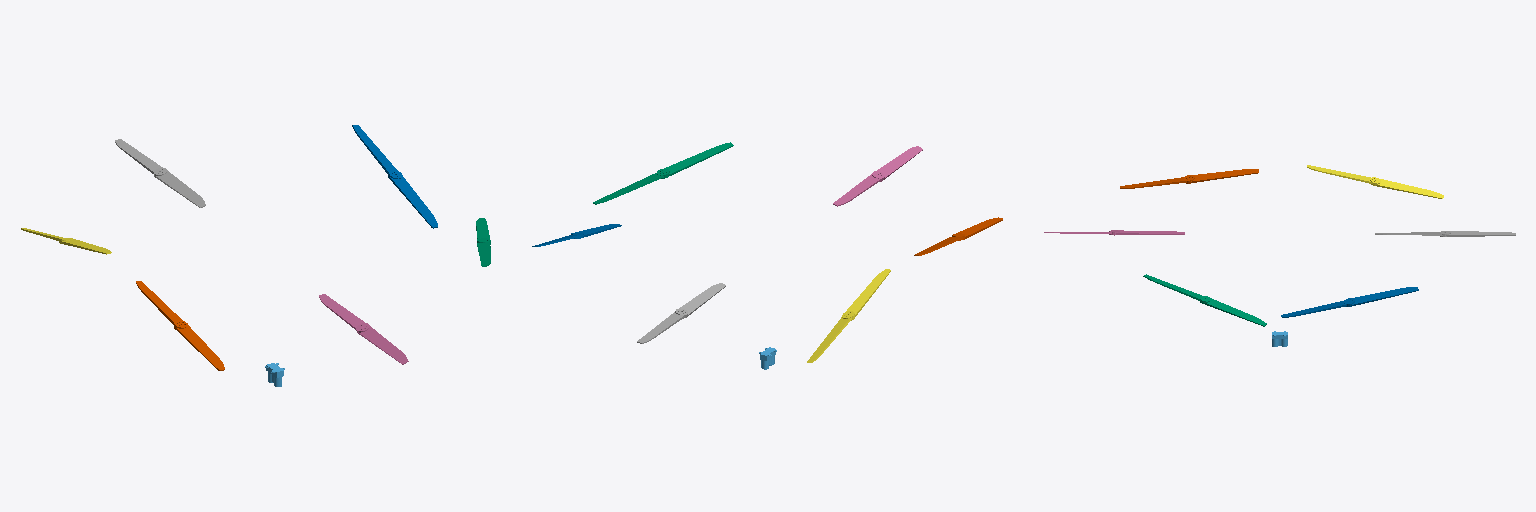
--- Facts derived from the render (not from the file) ---
The picture shows the robot from 3 angles, left to right: view 1: azimuth 30°, elevation 25°; view 2: azimuth 150°, elevation 25°; view 3: azimuth 270°, elevation 25°; orthographic projection.
Model airfly_hexa with 10 links and 9 joints (2 revolute, 6 continuous, 1 fixed), rooted at base_link, posed every joint at zero.
Visible links, largest first — view 1: rotor_2, rotor_0, rotor_3, rotor_1, rotor_4; view 2: rotor_4, rotor_5, rotor_0, rotor_1, rotor_3; view 3: rotor_2, rotor_5, rotor_3, rotor_4, rotor_1.
Boxes of the visible links, box(x1,y1,x2,y2) form: rotor_2: box(352, 125, 437, 228); rotor_0: box(319, 294, 408, 364); rotor_3: box(136, 281, 224, 370); rotor_1: box(115, 139, 205, 207); rotor_4: box(476, 218, 490, 266); rotor_4: box(593, 142, 733, 204); rotor_5: box(807, 269, 890, 362); rotor_0: box(833, 146, 922, 206); rotor_1: box(637, 283, 725, 343); rotor_3: box(914, 217, 1002, 255); rotor_2: box(1281, 287, 1418, 317); rotor_5: box(1307, 165, 1443, 198); rotor_3: box(1120, 169, 1258, 188); rotor_4: box(1143, 274, 1266, 326); rotor_1: box(1375, 231, 1515, 236).
Size in the robot's own frame: 1.89 by 2.71 by 0.7793 metres.
7 mesh visuals loaded from 3 distinct referenced files (2 binary STL); not drawn: 1 (reference not matched to a file when rendering).

URDF robot description (airfly_hexa):
<?xml version="1.0" ?>
<!-- =================================================================================== -->
<!-- |    This document was autogenerated by xacro from [local-path]/Firmware/Tools/sitl_gazebo/models/airfly_hexa/urdf/hexa_base.xacro | -->
<!-- |    EDITING THIS FILE BY HAND IS NOT RECOMMENDED                                 | -->
<!-- =================================================================================== -->
<robot name="airfly_hexa" xmlns:xacro="http://ros.org/wiki/xacro">
  <!-- Properties that can be assigned at build time as arguments.
  Is there a reason not to make all properties arguments?
  -->
  <!-- The following causes segfault with multiple vehicles if defaults to true!!! -->
  <!-- macros for gazebo plugins, sensors -->
  <!-- Macro to add logging to a bag file. -->
  <!-- Macro to add a camera. -->
  <!-- Macro to add a LiDAR. -->
  <!-- Macro to add the gps_plugin. -->
  <!-- Macro to add the magnetometer_plugin. -->
  <!-- Macro to add Ground Truth plugin -->
  <!-- Macro to add the barometer_plugin. -->
  <!-- Macro to add the mavlink interface. -->
  <!-- Macro to add an IMU. -->
  <!-- Macro to add the wind plugin. -->
  <!-- Instantiate Hexacopter "mechanics" -->
  <!-- Properties -->
  <!-- [kg] -->
  <!-- [m] -->
  <!-- [m] -->
  <!-- [m] -->
  <!-- [m] -->
  <!-- [kg] -->
  <!-- [m] -->
  <!-- [m] -->
  <!-- [kg.m/s^2] -->
  <!-- [m] -->
  <!-- [s] -->
  <!-- [s] -->
  <!-- [rad/s] -->
  <!-- Property Blocks for the Base link -->
  <!-- inertia of rotor 0 -->
  <!-- inertia of rotor 1 -->
  <!-- inertia of rotor 2 -->
  <!-- inertia of rotor 3 -->
  <!-- inertia of rotor 4 -->
  <!-- inertia of rotor 5 -->
  <!-- Included URDF Files -->
  <!-- Main multirotor link -->
  <!-- Rotor joint and link -->
  <!-- Instantiate multirotor_base_macro once -->
  <link name="base_link"/>
  <joint name="base_joint" type="fixed">
    <origin rpy="0 0 0" xyz="0 0 0"/>
    <parent link="base_link"/>
    <child link="base_link_inertia"/>
  </joint>
  <link name="base_link_inertia">
    <inertial>
      <mass value="95"/>
      <!-- [kg] -->
      <origin xyz="0.00248395293577031 0.000136495293976524 -0.174981555965809"/>
      <inertia ixx="2.93015030357653" ixy="2.67282084525685e-05" ixz="0.0449250956057515" iyy="2.98862504201484" iyz="6.44540809146554e-05" izz="4.78028912562783"/>
    </inertial>
    <visual>
      <origin rpy="0 0 0" xyz="0 0 0"/>
      <geometry>
        <mesh filename="package://airfly_hexa/meshes/base_link.STL" scale="1 1 1"/>
      </geometry>
    </visual>
    <collision>
      <origin rpy="0 0 0" xyz="0 0 -0.175"/>
      <geometry>
        <box size="1.944514 2.231896 0.886246"/>
        <!-- [m] [m] [m] -->
      </geometry>
    </collision>
  </link>
  <!-- attach multirotor_base_plugin to the base_link -->
  <gazebo>
    <plugin filename="libgazebo_multirotor_base_plugin.so" name="rosbag">
      <robotNamespace></robotNamespace>
      <linkName>base_link</linkName>
      <rotorVelocitySlowdownSim>3</rotorVelocitySlowdownSim>
    </plugin>
  </gazebo>
  <gazebo reference="base_link">
    <material>Gazebo/DarkGrey</material>
    <collision name="base_link_inertia_collision">
      <surface>
        <friction>
          <ode>
            <mu>100000.0</mu>
            <mu2>100000.0</mu2>
            <fdir1>1 0 0</fdir1>
            <slip1>0.0</slip1>
            <slip2>0.0</slip2>
          </ode>
        </friction>
        <contact>
          <ode>
            <min_depth>0.01</min_depth>
            <max_vel>1.0</max_vel>
          </ode>
        </contact>
      </surface>
    </collision>
  </gazebo>
  <!-- Instantiate rotor 4 rpy="0.167 -0.005845 2.6538" -->
  <joint name="rotor_4_joint" type="continuous">
    <origin rpy="0.167 -0.005845 2.6538" xyz="0.85004 -0.42999 0.25919"/>
    <axis xyz="0.082997 0.144137 0.986071"/>
    <parent link="base_link"/>
    <child link="rotor_4"/>
  </joint>
  <link name="rotor_4">
    <inertial>
      <mass value="0.4177"/>
      <!-- [kg] -->
      <inertia ixx="0.0053435" ixy="-3.2434e-05" ixz="-1.7607e-07" iyy="0.00011193" iyz="1.3339e-07" izz="0.005443"/>
    </inertial>
    <visual>
      <geometry>
        <mesh filename="package://airfly_hexa/meshes/rotor_1.STL" scale="1 1 1"/>
      </geometry>
    </visual>
    <collision>
      <geometry>
        <cylinder length="0.02" radius="0.406"/>
        <!-- [m] -->
      </geometry>
    </collision>
  </link>
  <gazebo>
    <plugin filename="libgazebo_motor_model.so" name="front_right_motor_model">
      <robotNamespace></robotNamespace>
      <jointName>rotor_4_joint</jointName>
      <linkName>rotor_4</linkName>
      <turningDirection>ccw</turningDirection>
      <timeConstantUp>0.0125</timeConstantUp>
      <timeConstantDown>0.025</timeConstantDown>
      <maxRotVelocity>470</maxRotVelocity>
      <motorConstant>0.0012010474</motorConstant>
      <momentConstant>0.06</momentConstant>
      <commandSubTopic>/gazebo/command/motor_speed</commandSubTopic>
      <motorNumber>4</motorNumber>
      <rotorDragCoefficient>0.002557889</rotorDragCoefficient>
      <rollingMomentCoefficient>3.172e-06</rollingMomentCoefficient>
      <motorSpeedPubTopic>/motor_speed/4</motorSpeedPubTopic>
      <rotorVelocitySlowdownSim>3</rotorVelocitySlowdownSim>
      <!--
        <gazebo_joint_control_pid>
          <p>0.1</p>
          <i>0</i>
          <d>0</d>
          <iMax>0</iMax>
          <iMin>0</iMin>
          <cmdMax>3</cmdMax>
          <cmdMin>-3</cmdMin>
        </gazebo_joint_control_pid>
      -->
    </plugin>
  </gazebo>
  <gazebo reference="rotor_4">
    <material>Gazebo/OrangeTransparent</material>
  </gazebo>
  <!-- Instantiate rotor 5 rpy="-0.24255 0.13775 -0.01577" -->
  <joint name="rotor_5_joint" type="continuous">
    <origin rpy="-0.24255 0.13775 -0.01577" xyz="-0.78182 0.54846 0.25157"/>
    <axis xyz="-0.137066 -0.238047 0.961533"/>
    <parent link="base_link"/>
    <child link="rotor_5"/>
  </joint>
  <link name="rotor_5">
    <inertial>
      <mass value="0.4177"/>
      <!-- [kg] -->
      <inertia ixx="0.0053435" ixy="-3.2435e-05" ixz="-1.7558e-07" iyy="0.00011193" iyz="1.3236e-07" izz="0.005443"/>
    </inertial>
    <visual>
      <geometry>
        <mesh filename="package://airfly_hexa/meshes/rotor_1.STL" scale="1 1 1"/>
      </geometry>
    </visual>
    <collision>
      <geometry>
        <cylinder length="0.02" radius="0.406"/>
        <!-- [m] -->
      </geometry>
    </collision>
  </link>
  <gazebo>
    <plugin filename="libgazebo_motor_model.so" name="back_left_motor_model">
      <robotNamespace></robotNamespace>
      <jointName>rotor_5_joint</jointName>
      <linkName>rotor_5</linkName>
      <turningDirection>cw</turningDirection>
      <timeConstantUp>0.0125</timeConstantUp>
      <timeConstantDown>0.025</timeConstantDown>
      <maxRotVelocity>470</maxRotVelocity>
      <motorConstant>0.0012010474</motorConstant>
      <momentConstant>0.06</momentConstant>
      <commandSubTopic>/gazebo/command/motor_speed</commandSubTopic>
      <motorNumber>5</motorNumber>
      <rotorDragCoefficient>0.002557889</rotorDragCoefficient>
      <rollingMomentCoefficient>3.172e-06</rollingMomentCoefficient>
      <motorSpeedPubTopic>/motor_speed/5</motorSpeedPubTopic>
      <rotorVelocitySlowdownSim>3</rotorVelocitySlowdownSim>
      <!--
        <gazebo_joint_control_pid>
          <p>0.1</p>
          <i>0</i>
          <d>0</d>
          <iMax>0</iMax>
          <iMin>0</iMin>
          <cmdMax>3</cmdMax>
          <cmdMin>-3</cmdMin>
        </gazebo_joint_control_pid>
      -->
    </plugin>
  </gazebo>
  <gazebo reference="rotor_5">
    <material>Gazebo/BlueTransparent</material>
  </gazebo>
  <!-- Instantiate rotor 2 rpy="0.24252 0.13781 0.017864" -->
  <joint name="rotor_2_joint" type="continuous">
    <origin rpy="0.24252 0.13781 0.017864" xyz="0.8659 0.40285 0.25157"/>
    <axis xyz="-0.137623 0.237729 0.961533"/>
    <parent link="base_link"/>
    <child link="rotor_2"/>
  </joint>
  <link name="rotor_2">
    <inertial>
      <mass value="0.4177"/>
      <!-- [kg] -->
      <inertia ixx="0.0053435" ixy="-3.2435e-05" ixz="-1.7561e-07" iyy="0.00011193" iyz="1.3276e-07" izz="0.005443"/>
    </inertial>
    <visual>
      <geometry>
        <mesh filename="package://airfly_hexa/meshes/rotor_1.STL" scale="1 1 1"/>
      </geometry>
    </visual>
    <collision>
      <geometry>
        <cylinder length="0.02" radius="0.406"/>
        <!-- [m] -->
      </geometry>
    </collision>
  </link>
  <gazebo>
    <plugin filename="libgazebo_motor_model.so" name="front_left_motor_model">
      <robotNamespace></robotNamespace>
      <jointName>rotor_2_joint</jointName>
      <linkName>rotor_2</linkName>
      <turningDirection>cw</turningDirection>
      <timeConstantUp>0.0125</timeConstantUp>
      <timeConstantDown>0.025</timeConstantDown>
      <maxRotVelocity>470</maxRotVelocity>
      <motorConstant>0.0012010474</motorConstant>
      <momentConstant>0.06</momentConstant>
      <commandSubTopic>/gazebo/command/motor_speed</commandSubTopic>
      <motorNumber>2</motorNumber>
      <rotorDragCoefficient>0.002557889</rotorDragCoefficient>
      <rollingMomentCoefficient>3.172e-06</rollingMomentCoefficient>
      <motorSpeedPubTopic>/motor_speed/2</motorSpeedPubTopic>
      <rotorVelocitySlowdownSim>3</rotorVelocitySlowdownSim>
      <!--
        <gazebo_joint_control_pid>
          <p>0.1</p>
          <i>0</i>
          <d>0</d>
          <iMax>0</iMax>
          <iMin>0</iMin>
          <cmdMax>3</cmdMax>
          <cmdMin>-3</cmdMin>
        </gazebo_joint_control_pid>
      -->
    </plugin>
  </gazebo>
  <gazebo reference="rotor_2">
    <material>Gazebo/BlueTransparent</material>
  </gazebo>
  <!-- Instantiate rotor 3 rpy="0.14504 0.083268 0.0071482" -->
  <joint name="rotor_3_joint" type="continuous">
    <origin rpy="0.14504 0.083268 0.0071482" xyz="-0.7974 -0.52116 0.25919"/>
    <axis xyz="-0.08333 0.14394 0.986072"/>
    <parent link="base_link"/>
    <child link="rotor_3"/>
  </joint>
  <link name="rotor_3">
    <inertial>
      <mass value="0.4177"/>
      <!-- [kg] -->
      <inertia ixx="0.0053435" ixy="-3.2434e-05" ixz="-1.756e-07" iyy="0.00011193" iyz="1.3269e-07" izz="0.005443"/>
    </inertial>
    <visual>
      <geometry>
        <mesh filename="package://airfly_hexa/meshes/rotor_1.STL" scale="1 1 1"/>
      </geometry>
    </visual>
    <collision>
      <geometry>
        <cylinder length="0.02" radius="0.406"/>
        <!-- [m] -->
      </geometry>
    </collision>
  </link>
  <gazebo>
    <plugin filename="libgazebo_motor_model.so" name="back_right_motor_model">
      <robotNamespace></robotNamespace>
      <jointName>rotor_3_joint</jointName>
      <linkName>rotor_3</linkName>
      <turningDirection>ccw</turningDirection>
      <timeConstantUp>0.0125</timeConstantUp>
      <timeConstantDown>0.025</timeConstantDown>
      <maxRotVelocity>470</maxRotVelocity>
      <motorConstant>0.0012010474</motorConstant>
      <momentConstant>0.06</momentConstant>
      <commandSubTopic>/gazebo/command/motor_speed</commandSubTopic>
      <motorNumber>3</motorNumber>
      <rotorDragCoefficient>0.002557889</rotorDragCoefficient>
      <rollingMomentCoefficient>3.172e-06</rollingMomentCoefficient>
      <motorSpeedPubTopic>/motor_speed/3</motorSpeedPubTopic>
      <rotorVelocitySlowdownSim>3</rotorVelocitySlowdownSim>
      <!--
        <gazebo_joint_control_pid>
          <p>0.1</p>
          <i>0</i>
          <d>0</d>
          <iMax>0</iMax>
          <iMin>0</iMin>
          <cmdMax>3</cmdMax>
          <cmdMin>-3</cmdMin>
        </gazebo_joint_control_pid>
      -->
    </plugin>
  </gazebo>
  <gazebo reference="rotor_3">
    <material>Gazebo/OrangeTransparent</material>
  </gazebo>
  <!-- Instantiate rotor 0 rpy="-0.0029981 0.27825 3.1318" -->
  <joint name="rotor_0_joint" type="continuous">
    <origin rpy="-0.0029981 0.27825 3.1318" xyz="-0.084071 -0.95131 0.25157"/>
    <axis xyz="-0.274688 -0.000308 0.961533"/>
    <parent link="base_link"/>
    <child link="rotor_0"/>
  </joint>
  <link name="rotor_0">
    <inertial>
      <mass value="0.4177"/>
      <!-- [kg] -->
      <inertia ixx="0.0053435" ixy="-3.2435e-05" ixz="-1.7611e-07" iyy="0.00011193" iyz="1.3111e-07" izz="0.005443"/>
    </inertial>
    <visual>
      <geometry>
        <mesh filename="package://airfly_hexa/meshes/rotor_1.STL" scale="1 1 1"/>
      </geometry>
    </visual>
    <collision>
      <geometry>
        <cylinder length="0.02" radius="0.406"/>
        <!-- [m] -->
      </geometry>
    </collision>
  </link>
  <gazebo>
    <plugin filename="libgazebo_motor_model.so" name="back_left_motor_model">
      <robotNamespace></robotNamespace>
      <jointName>rotor_0_joint</jointName>
      <linkName>rotor_0</linkName>
      <turningDirection>cw</turningDirection>
      <timeConstantUp>0.0125</timeConstantUp>
      <timeConstantDown>0.025</timeConstantDown>
      <maxRotVelocity>470</maxRotVelocity>
      <motorConstant>0.0012010474</motorConstant>
      <momentConstant>0.06</momentConstant>
      <commandSubTopic>/gazebo/command/motor_speed</commandSubTopic>
      <motorNumber>0</motorNumber>
      <rotorDragCoefficient>0.002557889</rotorDragCoefficient>
      <rollingMomentCoefficient>3.172e-06</rollingMomentCoefficient>
      <motorSpeedPubTopic>/motor_speed/0</motorSpeedPubTopic>
      <rotorVelocitySlowdownSim>3</rotorVelocitySlowdownSim>
      <!--
        <gazebo_joint_control_pid>
          <p>0.1</p>
          <i>0</i>
          <d>0</d>
          <iMax>0</iMax>
          <iMin>0</iMin>
          <cmdMax>3</cmdMax>
          <cmdMin>-3</cmdMin>
        </gazebo_joint_control_pid>
      -->
    </plugin>
  </gazebo>
  <gazebo reference="rotor_0">
    <material>Gazebo/BlueTransparent</material>
  </gazebo>
  <!-- Instantiate rotor 1 rpy="-2.5657e-05 -0.1671 0.0013258" -->
  <joint name="rotor_1_joint" type="continuous">
    <origin rpy="-2.5657e-05 -0.1671 0.0013258" xyz="-0.052635 0.95115 0.25919"/>
    <axis xyz="0.166323 0.000195 0.986071"/>
    <parent link="base_link"/>
    <child link="rotor_1"/>
  </joint>
  <link name="rotor_1">
    <inertial>
      <mass value="0.4177"/>
      <!-- [kg] -->
      <inertia ixx="0.0053435" ixy="-3.2435e-05" ixz="-1.7558e-07" iyy="0.00011193" iyz="1.3236e-07" izz="0.005443"/>
    </inertial>
    <visual>
      <geometry>
        <mesh filename="package://airfly_hexa/meshes/rotor_1.STL" scale="1 1 1"/>
      </geometry>
    </visual>
    <collision>
      <geometry>
        <cylinder length="0.02" radius="0.406"/>
        <!-- [m] -->
      </geometry>
    </collision>
  </link>
  <gazebo>
    <plugin filename="libgazebo_motor_model.so" name="back_right_motor_model">
      <robotNamespace></robotNamespace>
      <jointName>rotor_1_joint</jointName>
      <linkName>rotor_1</linkName>
      <turningDirection>ccw</turningDirection>
      <timeConstantUp>0.0125</timeConstantUp>
      <timeConstantDown>0.025</timeConstantDown>
      <maxRotVelocity>470</maxRotVelocity>
      <motorConstant>0.0012010474</motorConstant>
      <momentConstant>0.06</momentConstant>
      <commandSubTopic>/gazebo/command/motor_speed</commandSubTopic>
      <motorNumber>1</motorNumber>
      <rotorDragCoefficient>0.002557889</rotorDragCoefficient>
      <rollingMomentCoefficient>3.172e-06</rollingMomentCoefficient>
      <motorSpeedPubTopic>/motor_speed/1</motorSpeedPubTopic>
      <rotorVelocitySlowdownSim>3</rotorVelocitySlowdownSim>
      <!--
        <gazebo_joint_control_pid>
          <p>0.1</p>
          <i>0</i>
          <d>0</d>
          <iMax>0</iMax>
          <iMin>0</iMin>
          <cmdMax>3</cmdMax>
          <cmdMin>-3</cmdMin>
        </gazebo_joint_control_pid>
      -->
    </plugin>
  </gazebo>
  <gazebo reference="rotor_1">
    <material>Gazebo/OrangeTransparent</material>
  </gazebo>
  <!-- Wind Plugin -->
  <!-- Instantiate gps plugin. -->
  <gazebo>
    <plugin filename="libgazebo_gps_plugin.so" name="gps_plugin">
      <robotNamespace></robotNamespace>
      <gpsNoise>true</gpsNoise>
    </plugin>
  </gazebo>
  <!-- Instantiate magnetometer plugin. -->
  <gazebo>
    <plugin filename="libgazebo_magnetometer_plugin.so" name="magnetometer_plugin">
      <robotNamespace></robotNamespace>
      <pubRate>50</pubRate>
      <noiseDensity>0.0004</noiseDensity>
      <randomWalk>6.4e-06</randomWalk>
      <biasCorrelationTime>600</biasCorrelationTime>
      <magTopic>/mag</magTopic>
    </plugin>
  </gazebo>
  <!-- Instantiate barometer plugin. -->
  <gazebo>
    <plugin filename="libgazebo_barometer_plugin.so" name="barometer_plugin">
      <robotNamespace></robotNamespace>
      <pubRate>50</pubRate>
      <baroTopic>/baro</baroTopic>
    </plugin>
  </gazebo>
  <!-- Instantiate mavlink telemetry interface. -->
  <gazebo>
    <plugin filename="libgazebo_mavlink_interface.so" name="mavlink_interface">
      <robotNamespace></robotNamespace>
      <imuSubTopic>/imu</imuSubTopic>
      <gpsSubTopic>/gps</gpsSubTopic>
      <magSubTopic>/mag</magSubTopic>
      <baroSubTopic>/baro</baroSubTopic>
      <mavlink_addr>INADDR_ANY</mavlink_addr>
      <mavlink_udp_port>14560</mavlink_udp_port>
      <mavlink_tcp_port>4560</mavlink_tcp_port>
      <serialEnabled>false</serialEnabled>
      <serialDevice>/dev/ttyACM0</serialDevice>
      <baudRate>921600</baudRate>
      <qgc_addr>INADDR_ANY</qgc_addr>
      <qgc_udp_port>14550</qgc_udp_port>
      <sdk_addr>INADDR_ANY</sdk_addr>
      <sdk_udp_port>14540</sdk_udp_port>
      <hil_mode>false</hil_mode>
      <hil_state_level>false</hil_state_level>
      <vehicle_is_tailsitter>false</vehicle_is_tailsitter>
      <send_vision_estimation>true</send_vision_estimation>
      <send_odometry>false</send_odometry>
      <enable_lockstep>false</enable_lockstep>
      <use_tcp>true</use_tcp>
      <motorSpeedCommandPubTopic>/gazebo/command/motor_speed</motorSpeedCommandPubTopic>
      <control_channels>
        <channel name="rotor1">
          <input_index>0</input_index>
          <input_offset>0</input_offset>
          <input_scaling>470</input_scaling>
          <zero_position_disarmed>0</zero_position_disarmed>
          <zero_position_armed>100</zero_position_armed>
          <joint_control_type>velocity</joint_control_type>
        </channel>
        <channel name="rotor2">
          <input_index>1</input_index>
          <input_offset>0</input_offset>
          <input_scaling>470</input_scaling>
          <zero_position_disarmed>0</zero_position_disarmed>
          <zero_position_armed>100</zero_position_armed>
          <joint_control_type>velocity</joint_control_type>
        </channel>
        <channel name="rotor3">
          <input_index>2</input_index>
          <input_offset>0</input_offset>
          <input_scaling>470</input_scaling>
          <zero_position_disarmed>0</zero_position_disarmed>
          <zero_position_armed>100</zero_position_armed>
          <joint_control_type>velocity</joint_control_type>
        </channel>
        <channel name="rotor4">
          <input_index>3</input_index>
          <input_offset>0</input_offset>
          <input_scaling>470</input_scaling>
          <zero_position_disarmed>0</zero_position_disarmed>
          <zero_position_armed>100</zero_position_armed>
          <joint_control_type>velocity</joint_control_type>
        </channel>
        <channel name="rotor4">
          <input_index>4</input_index>
          <input_offset>0</input_offset>
          <input_scaling>470</input_scaling>
          <zero_position_disarmed>0</zero_position_disarmed>
          <zero_position_armed>100</zero_position_armed>
          <joint_control_type>velocity</joint_control_type>
        </channel>
        <channel name="rotor5">
          <input_index>5</input_index>
          <input_offset>0</input_offset>
          <input_scaling>470</input_scaling>
          <zero_position_disarmed>0</zero_position_disarmed>
          <zero_position_armed>100</zero_position_armed>
          <joint_control_type>velocity</joint_control_type>
        </channel>
      </control_channels>
    </plugin>
  </gazebo>
  <!-- Mount an ADIS16448 IMU. -->
  <!-- IMU link -->
  <link name="/imu_link">
    <inertial>
      <inertia ixx="0.00001" ixy="0.0" ixz="0.0" iyy="0.00001" iyz="0.0" izz="0.00001"/>
      <mass value="0.015"/>
      <!-- [kg] -->
      <origin rpy="0 0 0" xyz="0 0 0"/>
    </inertial>
  </link>
  <!-- IMU joint -->
  <joint name="/imu_joint" type="revolute">
    <origin rpy="0 0 0" xyz="0 0 0"/>
    <parent link="base_link"/>
    <child link="/imu_link"/>
    <limit effort="0" lower="0" upper="0" velocity="0"/>
  </joint>
  <gazebo>
    <plugin filename="libgazebo_imu_plugin.so" name="rotors_gazebo_imu_plugin">
      <!-- A good description of the IMU parameters can be found in the kalibr documentation:
           https://github.com/ethz-asl/kalibr/wiki/IMU-Noise-Model-and-Intrinsics -->
      <robotNamespace></robotNamespace>
      <!-- (string, required): ros namespace in which the messages are published -->
      <linkName>/imu_link</linkName>
      <!-- (string, required): name of the body which holds the IMU sensor -->
      <imuTopic>/imu</imuTopic>
      <!-- (string): name of the sensor output topic and prefix of service names (defaults to imu) -->
      <gyroscopeNoiseDensity>0.00018665</gyroscopeNoiseDensity>
      <!-- Gyroscope noise density (two-sided spectrum) [rad/s/sqrt(Hz)] -->
      <gyroscopeRandomWalk>3.8785e-05</gyroscopeRandomWalk>
      <!-- Gyroscope bias random walk [rad/s/s/sqrt(Hz)] -->
      <gyroscopeBiasCorrelationTime>1000.0</gyroscopeBiasCorrelationTime>
      <!-- Gyroscope bias correlation time constant [s] -->
      <gyroscopeTurnOnBiasSigma>0.0087</gyroscopeTurnOnBiasSigma>
      <!-- Gyroscope turn on bias standard deviation [rad/s] -->
      <accelerometerNoiseDensity>0.00186</accelerometerNoiseDensity>
      <!-- Accelerometer noise density (two-sided spectrum) [m/s^2/sqrt(Hz)] -->
      <accelerometerRandomWalk>0.006</accelerometerRandomWalk>
      <!-- Accelerometer bias random walk. [m/s^2/s/sqrt(Hz)] -->
      <accelerometerBiasCorrelationTime>300.0</accelerometerBiasCorrelationTime>
      <!-- Accelerometer bias correlation time constant [s] -->
      <accelerometerTurnOnBiasSigma>0.196</accelerometerTurnOnBiasSigma>
      <!-- Accelerometer turn on bias standard deviation [m/s^2] -->
    </plugin>
  </gazebo>
  <!-- Enable LiDAR -->
  <!-- Instantiate LiDAR plugin -->
  <link name="lidar">
    <visual>
      <origin rpy="0 0 0" xyz="0 0 0"/>
      <geometry>
        <mesh filename="package://airfly_hexa/meshes/Lidar_Lite_Laser_Optics.STL" scale="0.002 0.002 0.002"/>
      </geometry>
      <material name="white"/>
    </visual>
    <inertial>
      <mass value="0.01"/>
      <origin rpy="0 0 0" xyz="0 0 0"/>
      <inertia ixx="2.1733e-6" ixy="0" ixz="0" iyy="2.1733e-6" iyz="0" izz="1.8e-7"/>
    </inertial>
  </link>
  <joint name="lidar_joint" type="revolute">
    <origin rpy="0 0 0" xyz="0 0 -0.3625"/>
    <parent link="base_link"/>
    <child link="lidar"/>
    <axis xyz="0 0 1"/>
    <limit effort="0" lower="0" upper="0" velocity="0"/>
  </joint>
  <gazebo reference="lidar">
    <sensor name="laser" type="ray">
      <pose>0 0 0 0 1.57079633 0</pose>
      <ray>
        <scan>
          <horizontal>
            <samples>1</samples>
            <resolution>1</resolution>
            <min_angle>-0</min_angle>
            <max_angle>0</max_angle>
          </horizontal>
        </scan>
        <range>
          <min>0.06</min>
          <!-- do not change: use min_distance (below) for realistic behavior (smaller values cause issues) -->
          <max>35</max>
          <!-- do not change: use min_distance (below) for realistic behavior (bigger values cause issues) -->
          <resolution>0.01</resolution>
        </range>
        <noise>
          <type>gaussian</type>
          <mean>0.0</mean>
          <stddev>0.02</stddev>
        </noise>
      </ray>
      <plugin filename="libgazebo_lidar_plugin.so" name="LaserPlugin">
        <robotNamespace/>
        <min_distance>0.2</min_distance>
        <max_distance>15.0</max_distance>
      </plugin>
      <always_on>1</always_on>
      <update_rate>20</update_rate>
      <visualize>true</visualize>
    </sensor>
    <material>Gazebo/White</material>
  </gazebo>
  <!-- Enable GroundTruth -->
  <!-- Instantiate GroundTruth plugin. -->
  <gazebo>
    <plugin filename="libgazebo_ros_p3d.so" name="ground_truth">
      <frameName>map</frameName>
      <bodyName>base_link</bodyName>
      <topicName>/ground_truth</topicName>
      <updateRate>30</updateRate>
      <xyzOffset>0 0 -0.1975016</xyzOffset>
      <rpyOffset>0 0 0</rpyOffset>
    </plugin>
  </gazebo>
</robot>
